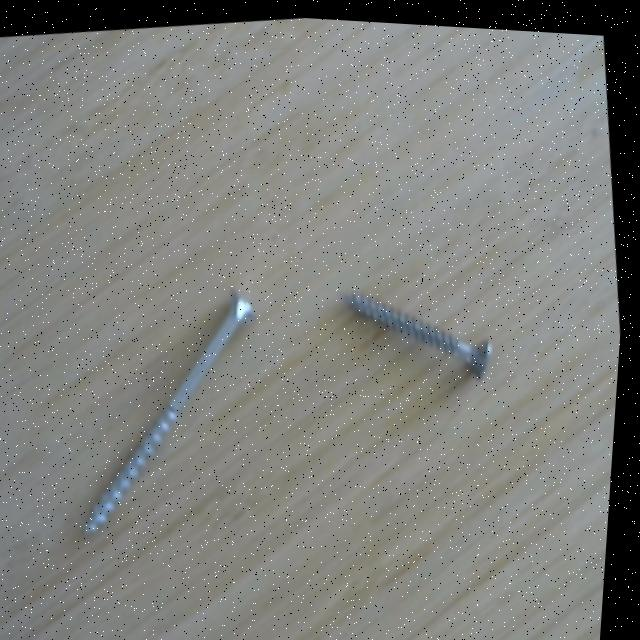Black screw: (339, 265, 509, 397)
Long screw: (61, 263, 291, 549)
